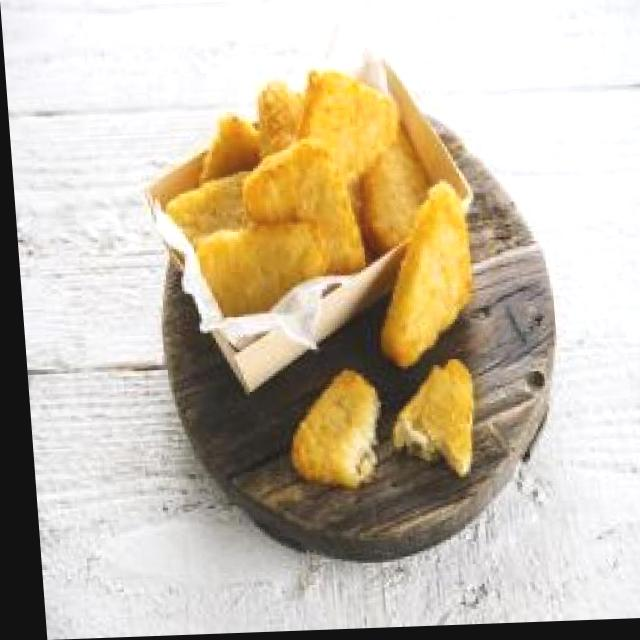triangle_hash_brown: (153, 71, 442, 322), (367, 187, 475, 373), (280, 370, 377, 492), (385, 362, 474, 477)
